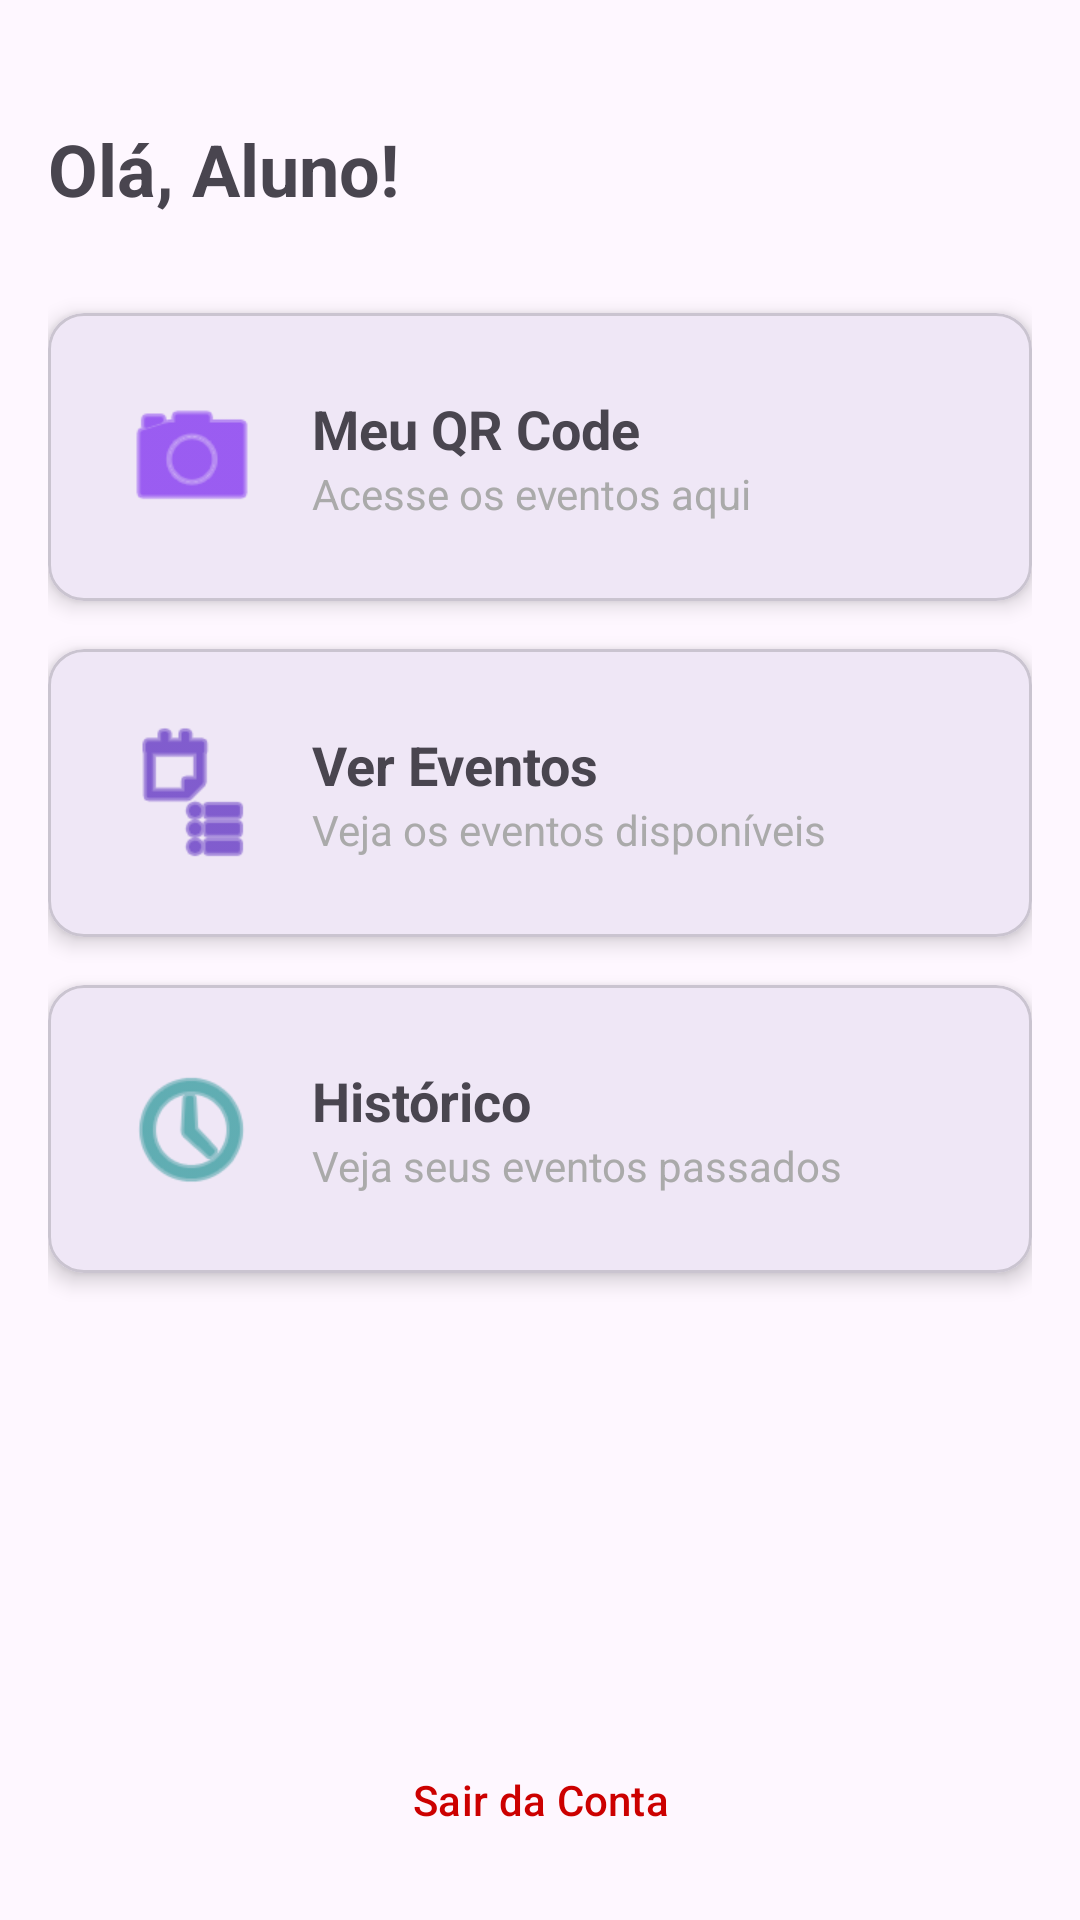

Screen size 1080x1920. Icon name, then its box in pixels as (x1, y1, x2, y2):
agenda: (142, 728, 243, 856)
camera: (136, 410, 248, 499)
recent history: (139, 1078, 244, 1182)
